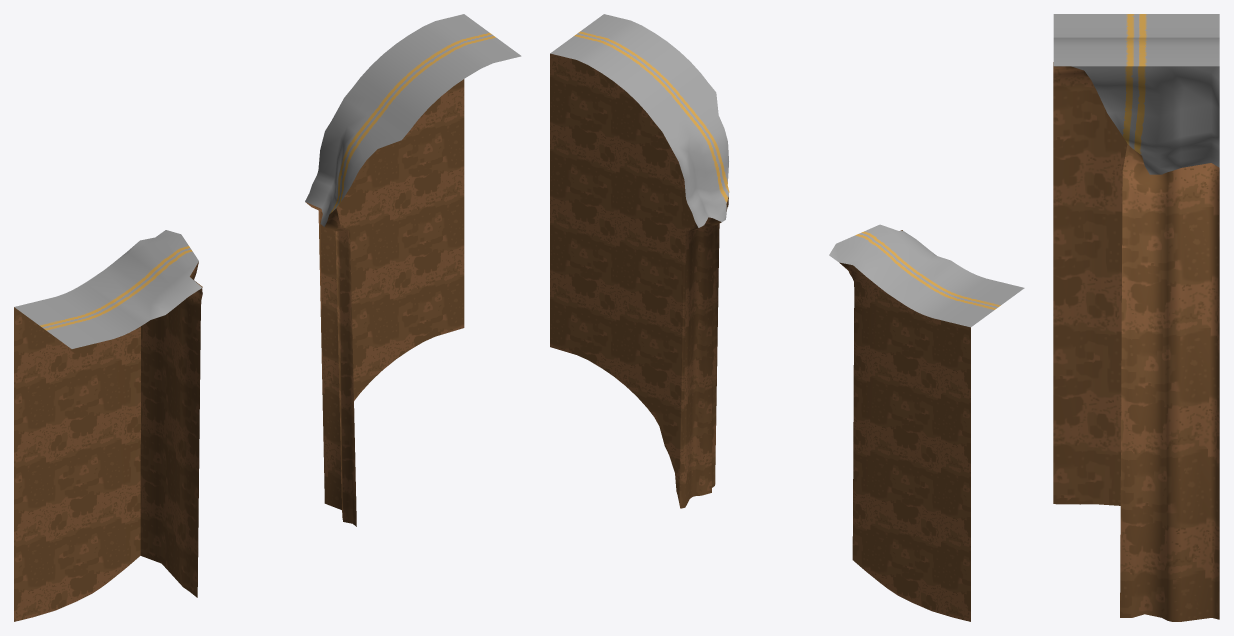
Rendered from Terrain_07_slope_3.FBX.
3 views of the same model, side by side, from view 1: azimuth 30°, elevation 25°; view 2: azimuth 150°, elevation 25°; view 3: azimuth 270°, elevation 25° (orthographic). The views are drawn at different scales.
Parts seen in each view (by area): view 1: Terrain_05_ground, Terrain_05; view 2: Terrain_05_ground, Terrain_05; view 3: Terrain_05_ground, Terrain_05.
Boxes of the visible parts, x1=… form: Terrain_05_ground: x1=14, y1=79, x2=464, y2=621; Terrain_05: x1=14, y1=14, x2=521, y2=348; Terrain_05_ground: x1=550, y1=53, x2=970, y2=621; Terrain_05: x1=550, y1=14, x2=1024, y2=327; Terrain_05_ground: x1=1053, y1=62, x2=1219, y2=621; Terrain_05: x1=1053, y1=14, x2=1219, y2=174.
Size of the model in its own units: 180 by 190 by 40.01.
